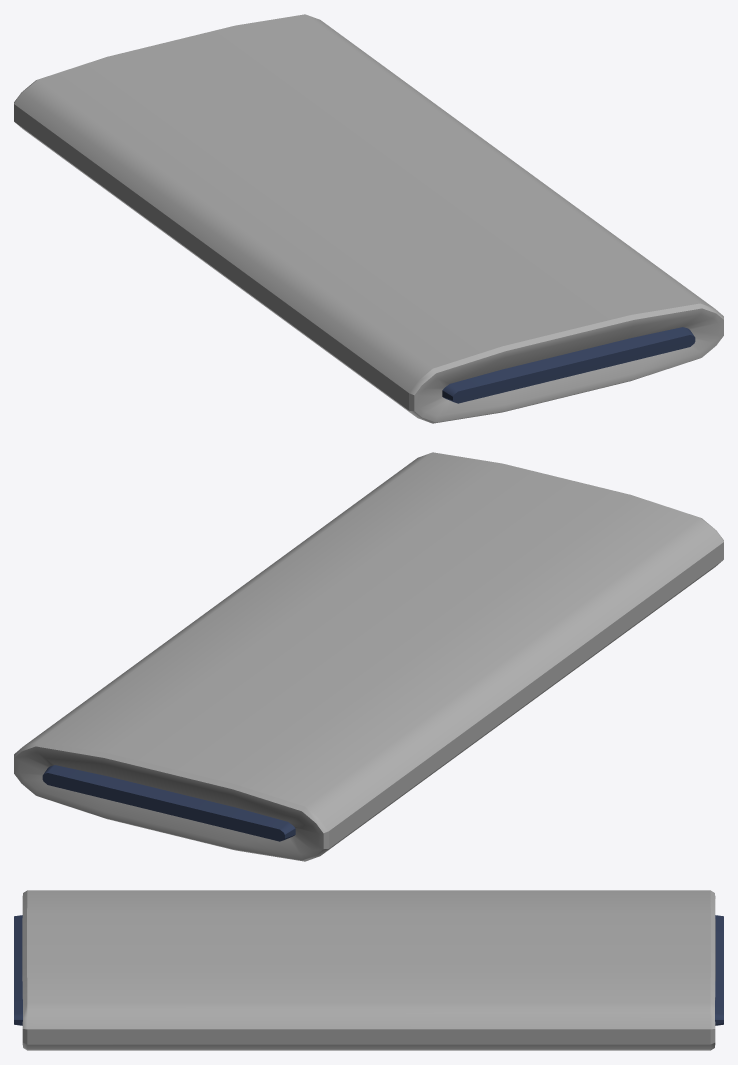
The model's file is FabrickPlatform.fbx.
3 renders of one model, top to bottom at view 1: azimuth 30°, elevation 25°; view 2: azimuth 150°, elevation 25°; view 3: azimuth 270°, elevation 25°, orthographic. The views are drawn at different scales.
Parts seen in each view (by area): view 1: FabrickPlatform_GEO; view 2: FabrickPlatform_GEO; view 3: FabrickPlatform_GEO.
Boxes of the visible parts, <box> form: FabrickPlatform_GEO: <box>14,14,723,423</box>; FabrickPlatform_GEO: <box>14,452,723,861</box>; FabrickPlatform_GEO: <box>14,890,723,1050</box>.
Size of the model in its own units: 381 by 76.48 by 860.
